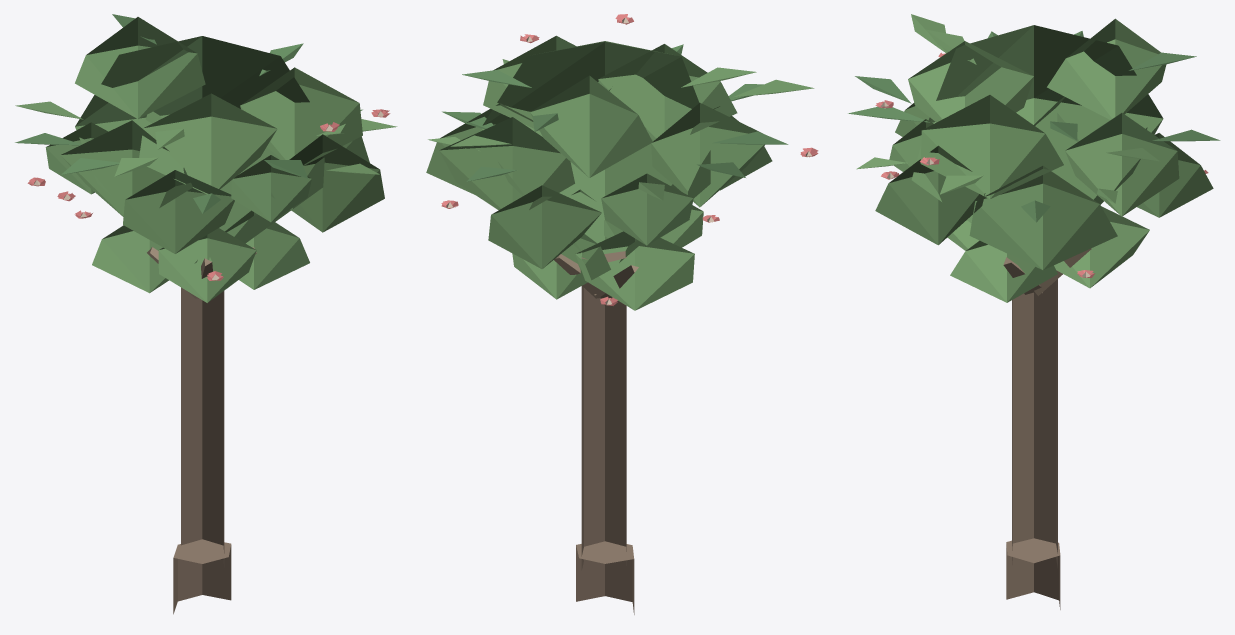
Rendered from shu.mumian@flowering__summer.glb.
3 views of the same model, side by side, from view 1: azimuth 30°, elevation 25°; view 2: azimuth 150°, elevation 25°; view 3: azimuth 270°, elevation 25° (orthographic).
Visible parts, largest first — view 1: shu.mumian@flowering__summer; view 2: shu.mumian@flowering__summer; view 3: shu.mumian@flowering__summer.
Part boxes in pixels (left/top/right/bottom): shu.mumian@flowering__summer: left=15, top=14, right=397, bottom=614; shu.mumian@flowering__summer: left=426, top=14, right=818, bottom=614; shu.mumian@flowering__summer: left=848, top=14, right=1220, bottom=609.
Bounding box in the file's own units: 18.53 × 30.34 × 17.84.
